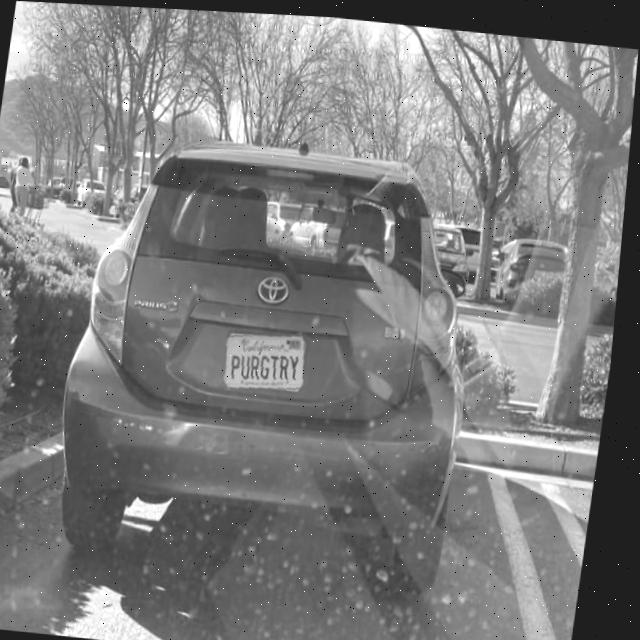LicensePlate: (232, 332, 311, 386)
